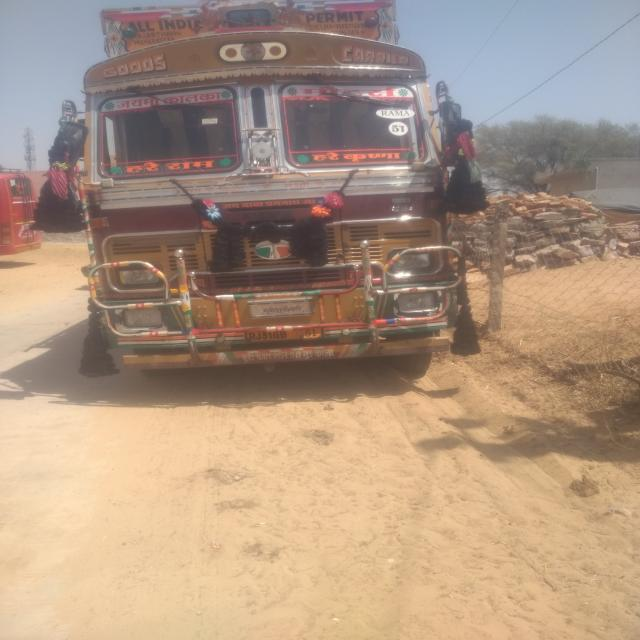truck_front: (16, 0, 510, 393)
